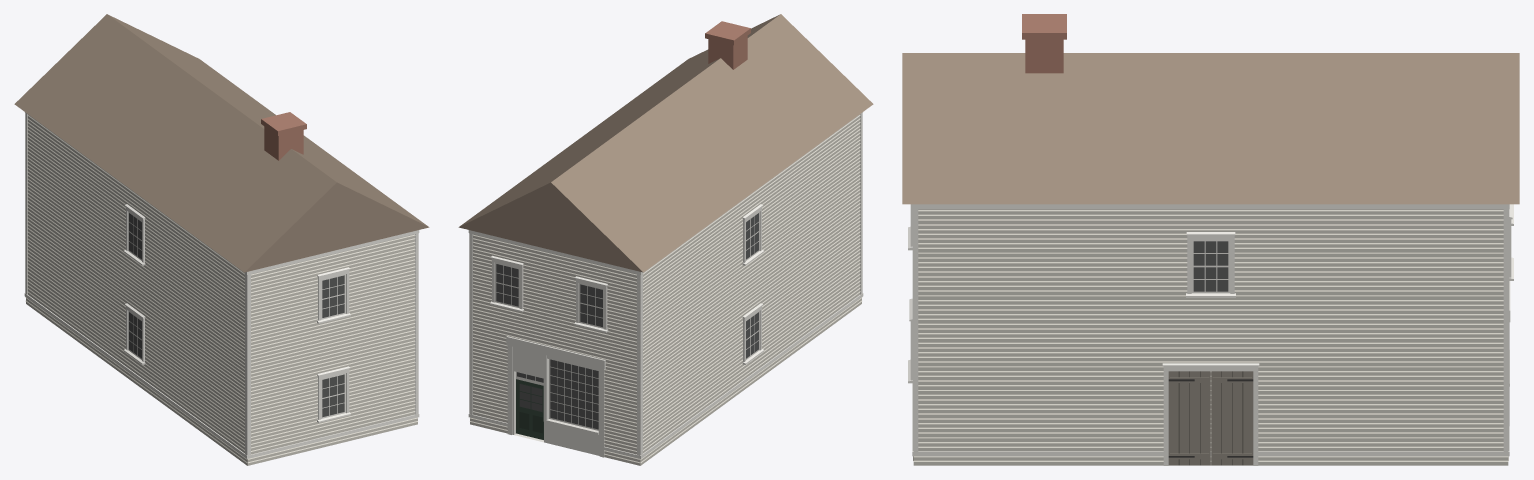
Rendered from recon_1835_core_c3_006__inferred_1835.glb.
3 renders of one model, left to right at view 1: azimuth 30°, elevation 25°; view 2: azimuth 150°, elevation 25°; view 3: azimuth 270°, elevation 25°, orthographic. The views are drawn at different scales.
Parts seen in each view (by area): view 1: recon_1835_core_c3_006__inferred_1835; view 2: recon_1835_core_c3_006__inferred_1835; view 3: recon_1835_core_c3_006__inferred_1835.
Part boxes in pixels (x1,y1,x2,y2): recon_1835_core_c3_006__inferred_1835: (14,14,429,465); recon_1835_core_c3_006__inferred_1835: (458,14,873,465); recon_1835_core_c3_006__inferred_1835: (902,14,1519,465).
Bounding box in the file's own units: 6.27 × 9.3 × 13.47.
